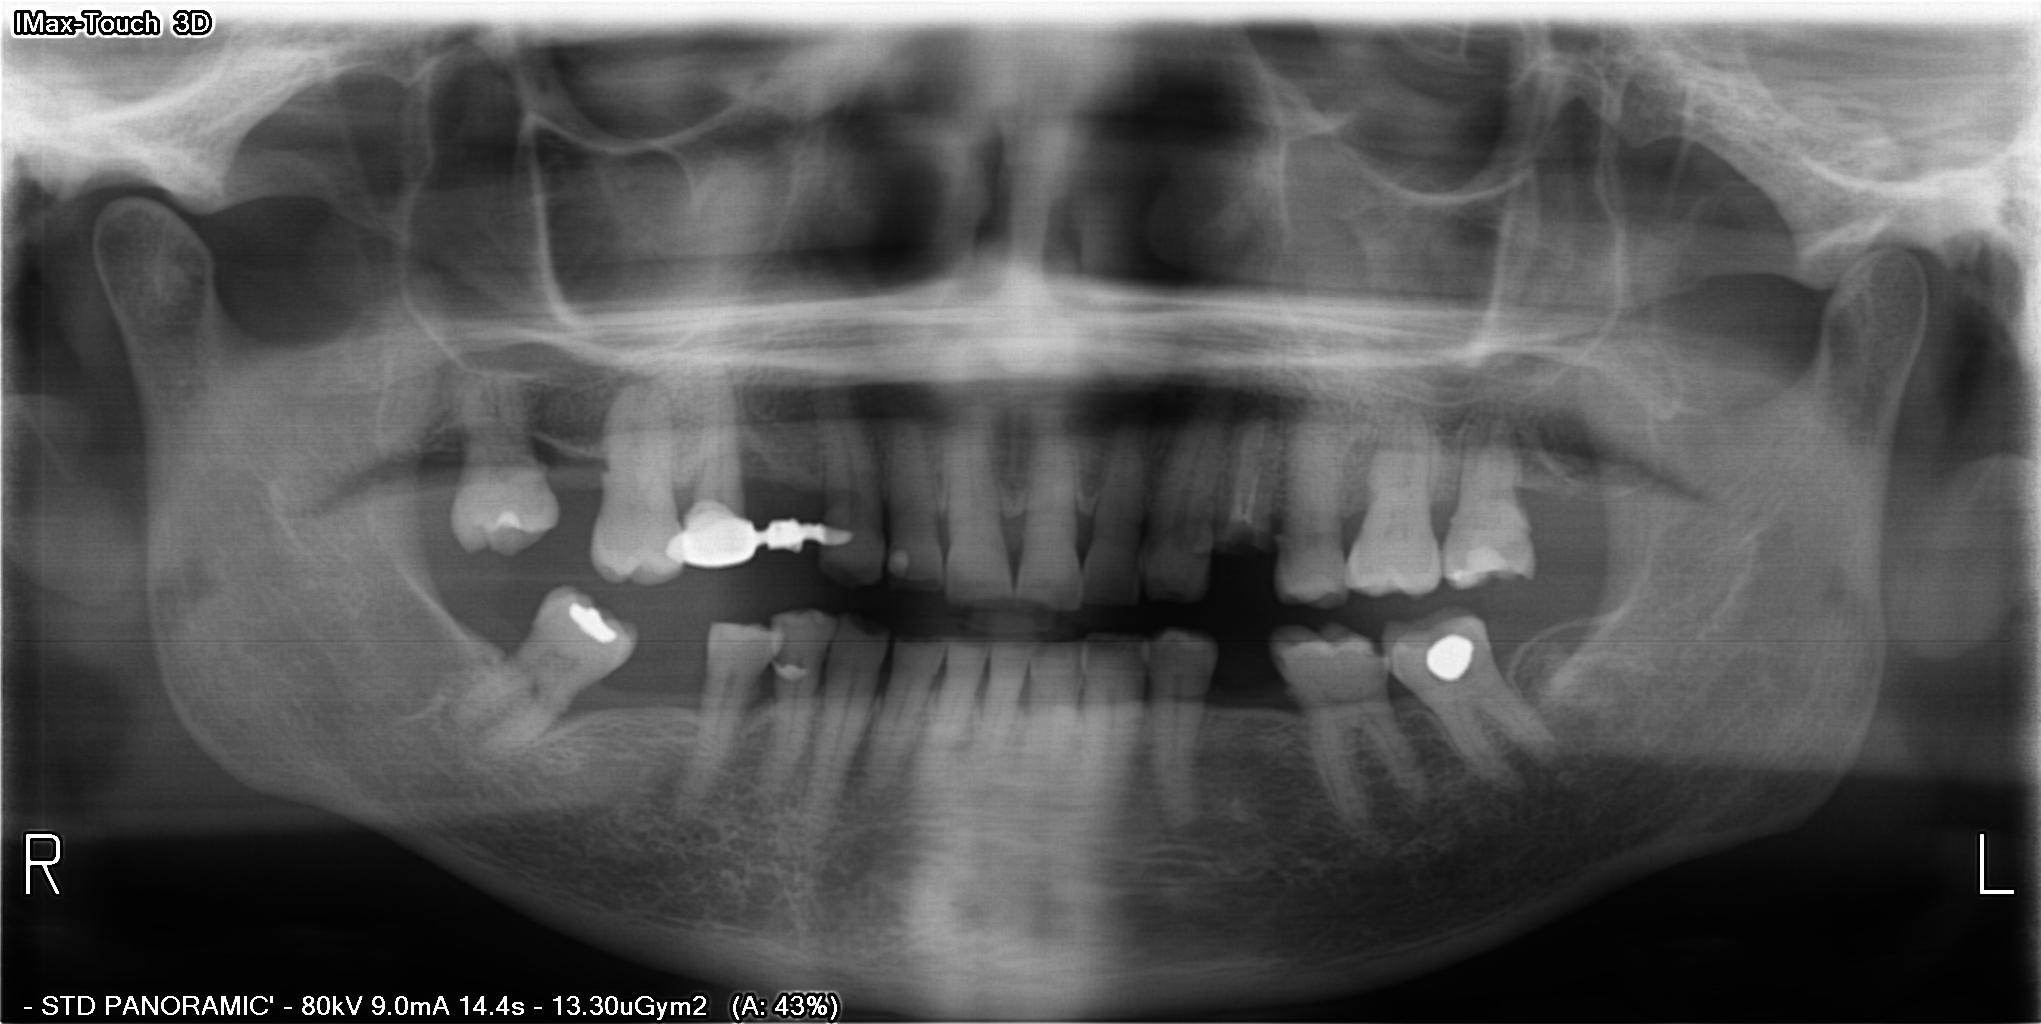Çürük: (662, 496, 761, 572), (565, 600, 623, 658), (1416, 635, 1483, 684), (1459, 539, 1510, 579)
